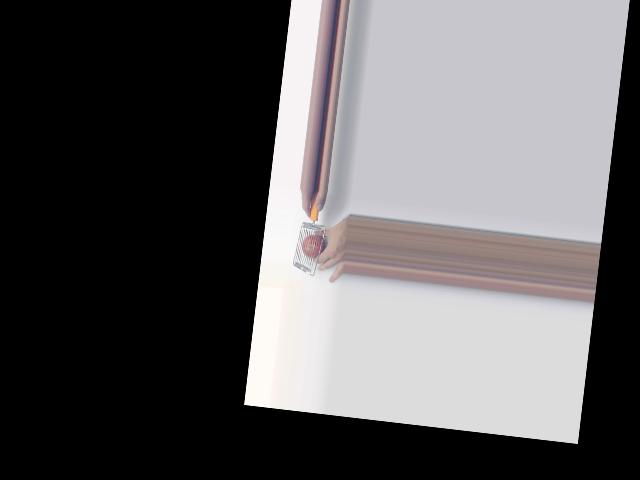tomato: (301, 232, 326, 259)
